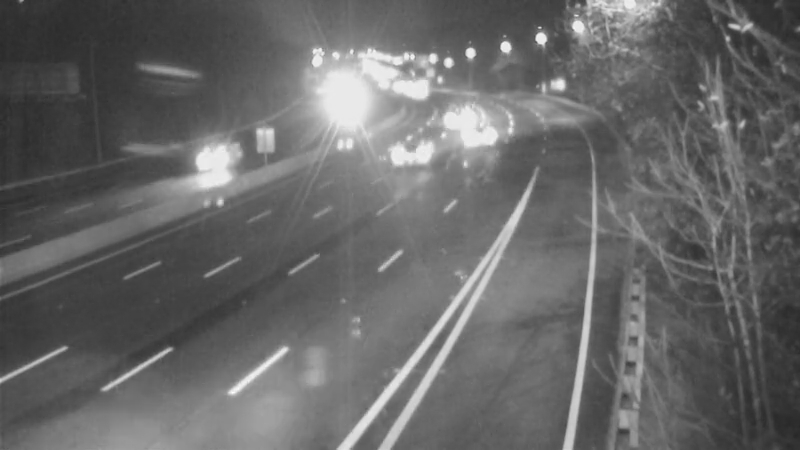vehicle: (380, 112, 460, 192), (181, 114, 261, 194), (430, 96, 480, 146), (450, 117, 500, 167), (319, 87, 369, 137)
